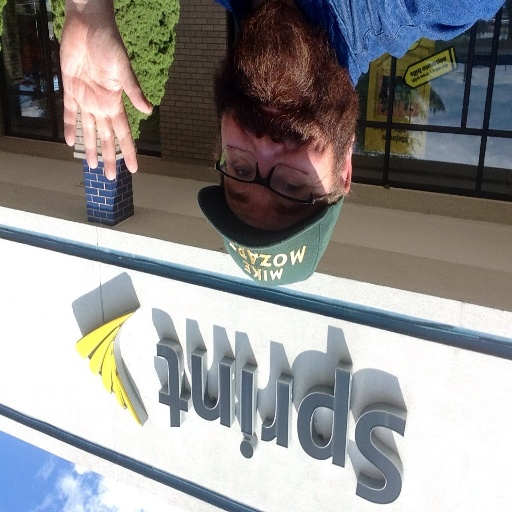hand: (64, 16, 147, 195)
